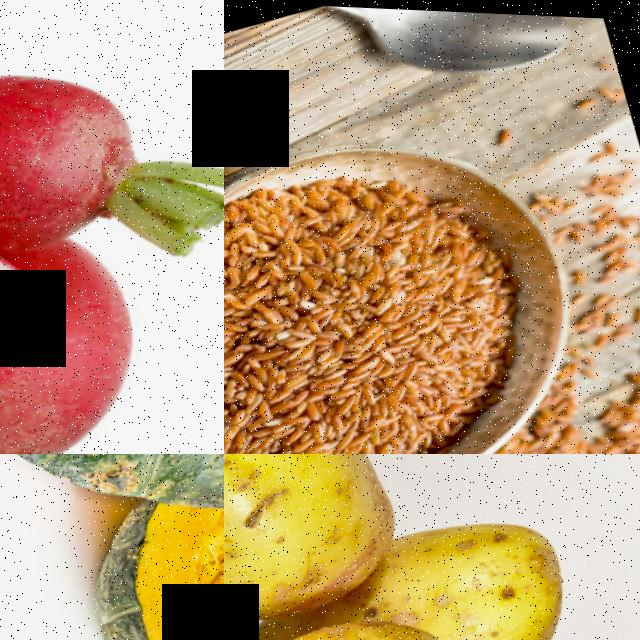potato: (224, 454, 428, 640), (398, 477, 608, 640), (224, 580, 538, 640)
pumpkin: (0, 454, 224, 588), (83, 454, 224, 640)
radishes: (0, 190, 202, 454), (0, 1, 180, 291)
red rice: (224, 128, 553, 454)
